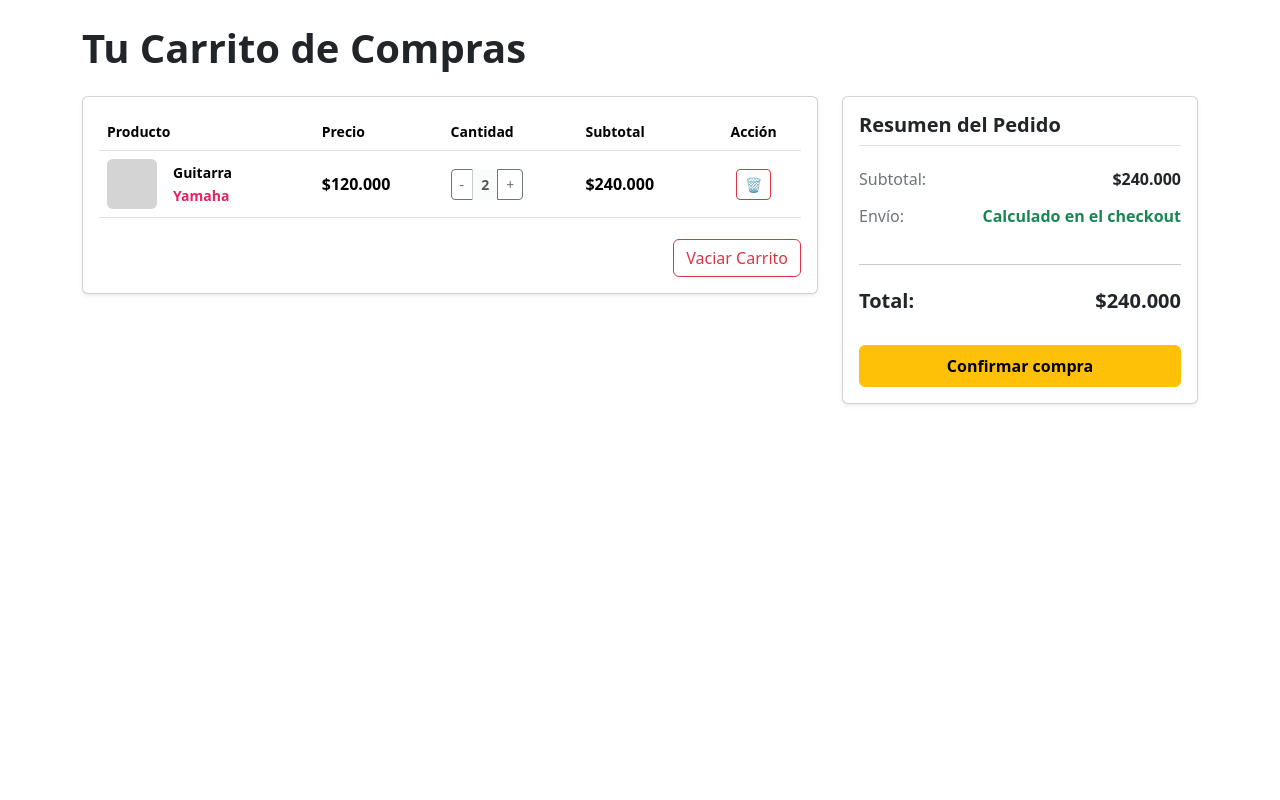
compra desde el carrito › envía productoId y cantidad, limpia el carrito y actualiza el catálogo
The image size is (1280, 800).
Step 1. Click the button "Confirmar compra" → point(1020, 366), box [859,345,1181,387]
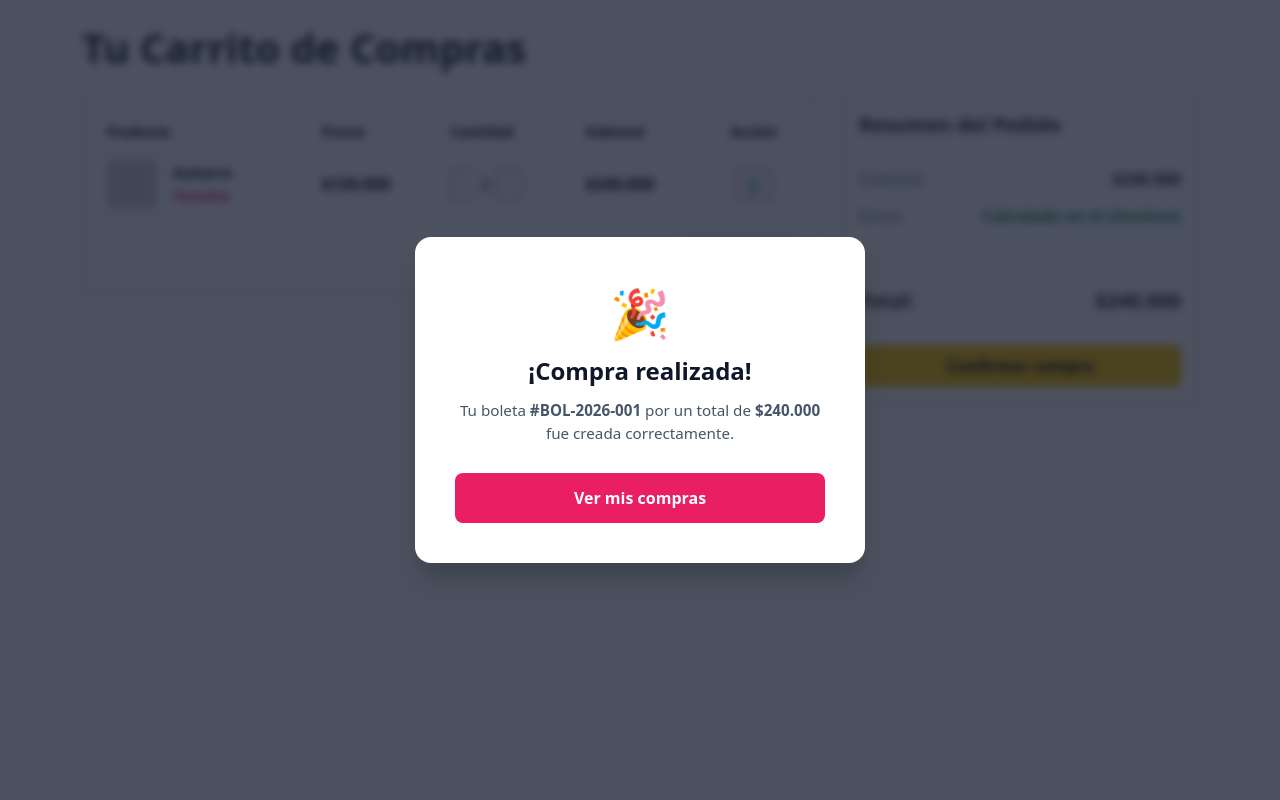
Check: the element that starts with "Tu boleta" shows "BOL-2026-001", box [540,400,641,420]
Check: the element that starts with "Tu boleta" shows "$240.000", box [755,400,820,420]
